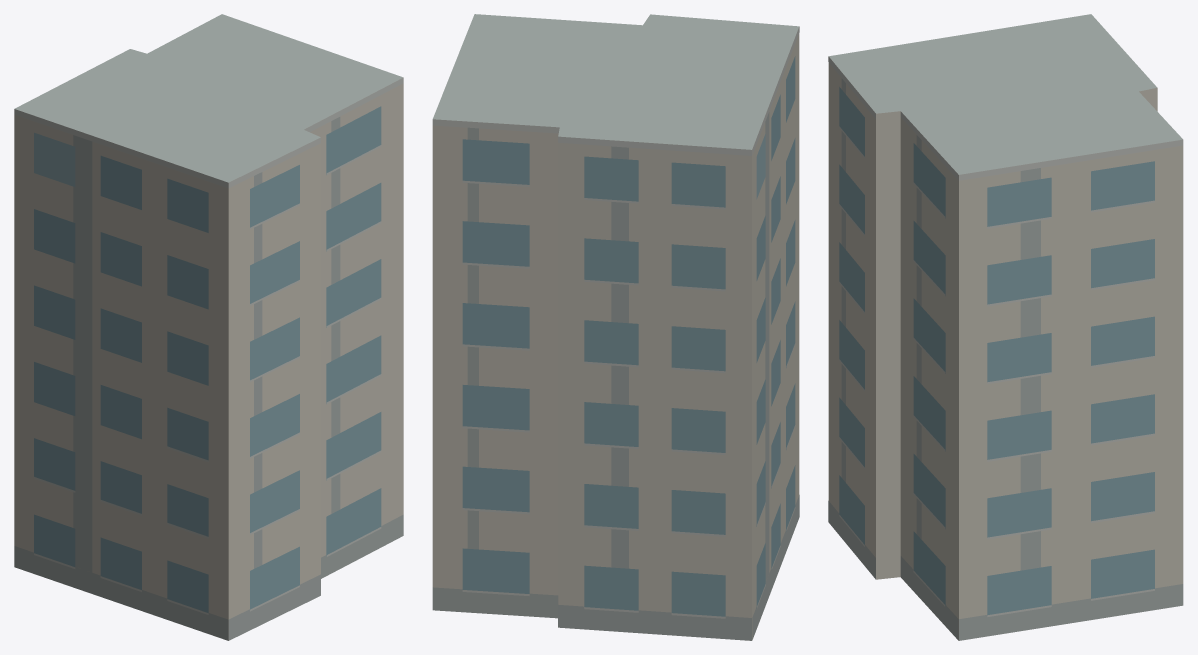
File: survey-upis-32853751.glb
The picture shows the model from 3 angles, left to right: view 1: azimuth 30°, elevation 25°; view 2: azimuth 150°, elevation 25°; view 3: azimuth 270°, elevation 25°; orthographic projection. The views are drawn at different scales.
Visible parts, largest first — view 1: survey-upis-32853751.tmp; view 2: survey-upis-32853751.tmp; view 3: survey-upis-32853751.tmp.
Part boxes in pixels (<box>): survey-upis-32853751.tmp: <box>14,14,403,640</box>; survey-upis-32853751.tmp: <box>432,14,799,640</box>; survey-upis-32853751.tmp: <box>828,14,1183,640</box>.
Size of the model in its own units: 14.3 by 19.3 by 13.33.
